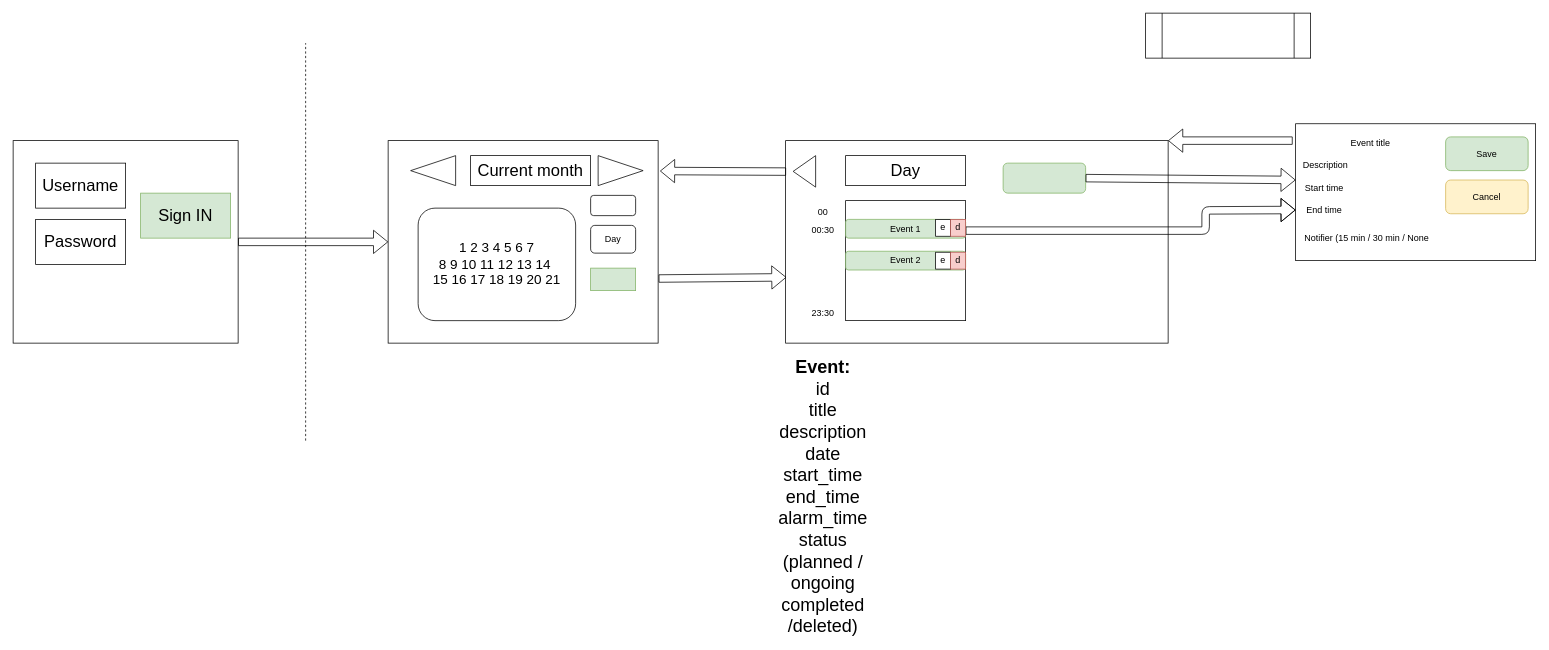
Image size: 1549x650. Some labels were removed from this diagram. The shapes that lost their labels are listed below. From the top down, each one's centre as x and y in pixels, then its label:
At point 1228,35: "Alert: other event is set for this time".
At point 1044,177: "Create event".
At point 613,205: "Year".
At point 613,279: "Go to day".
